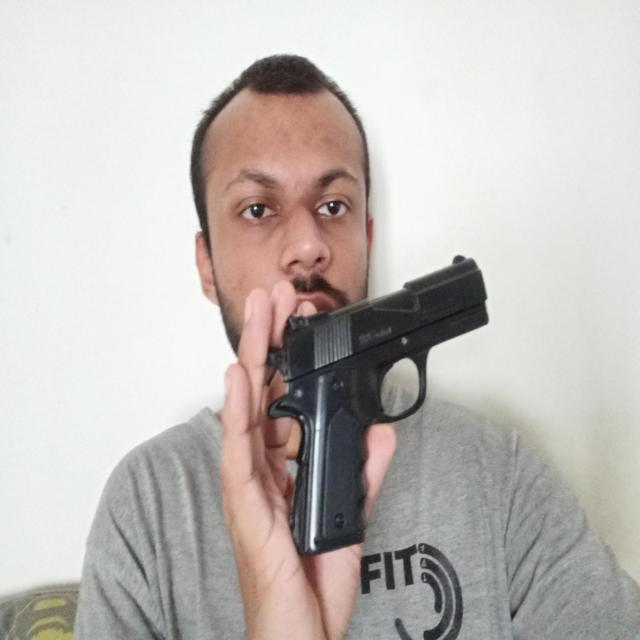handgun: (265, 253, 490, 554)
